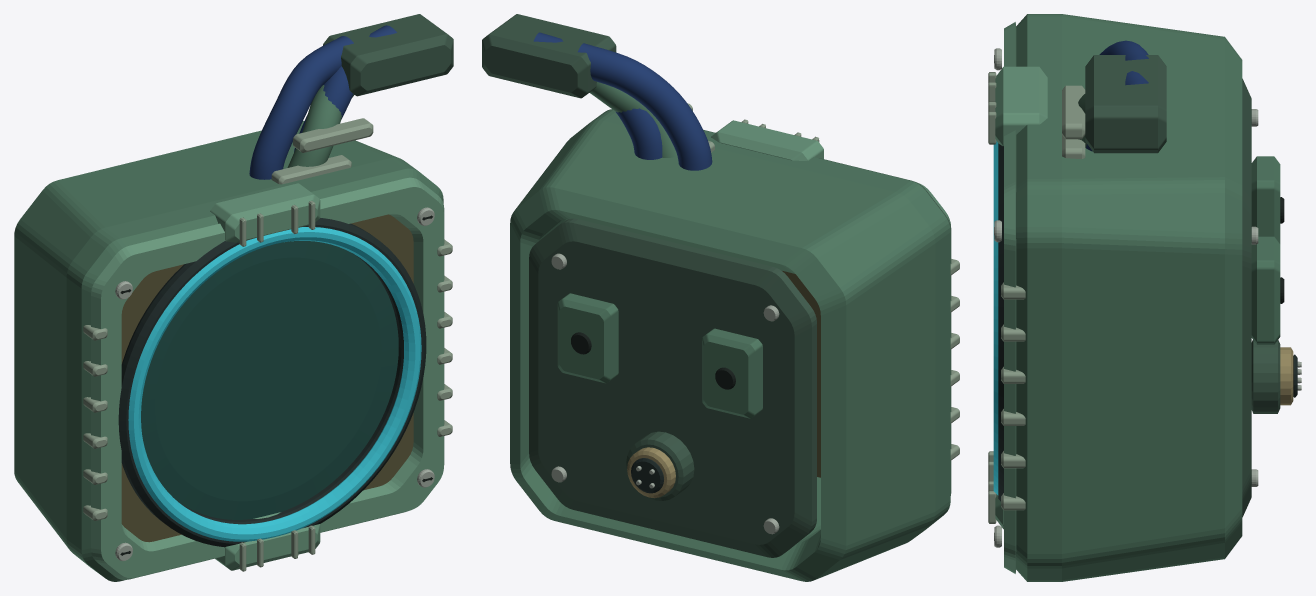
The model's file is AttitudePanel.glb.
The picture shows the model from 3 angles, left to right: view 1: azimuth 30°, elevation 25°; view 2: azimuth 150°, elevation 25°; view 3: azimuth 270°, elevation 25°; orthographic projection. The views are drawn at different scales.
Parts seen in each view (by area): view 1: Casing, Dial_Display; view 2: Casing; view 3: Casing.
Boxes of the visible parts, box(x1,y1,x2,y2) form: Casing: box(14, 14, 453, 581); Dial_Display: box(141, 241, 398, 519); Casing: box(482, 14, 959, 581); Casing: box(988, 14, 1301, 581).
Bounding box in the file's own units: 0.2583 × 0.2771 × 0.1497.
